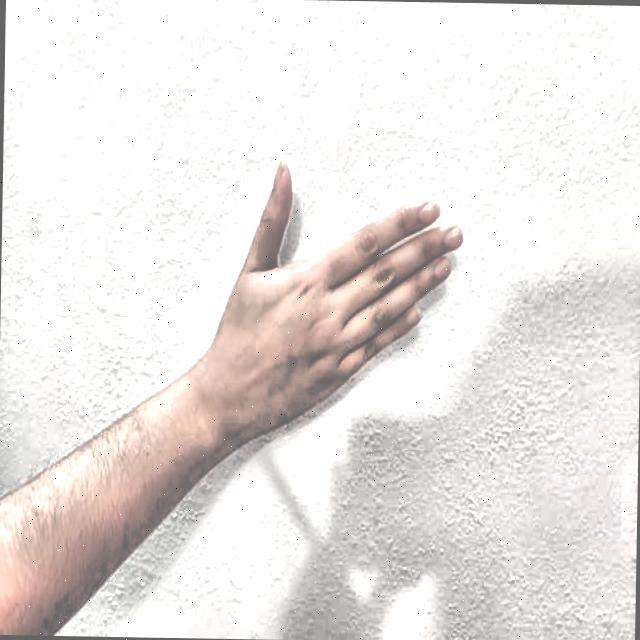Aa: (191, 97, 493, 479)
